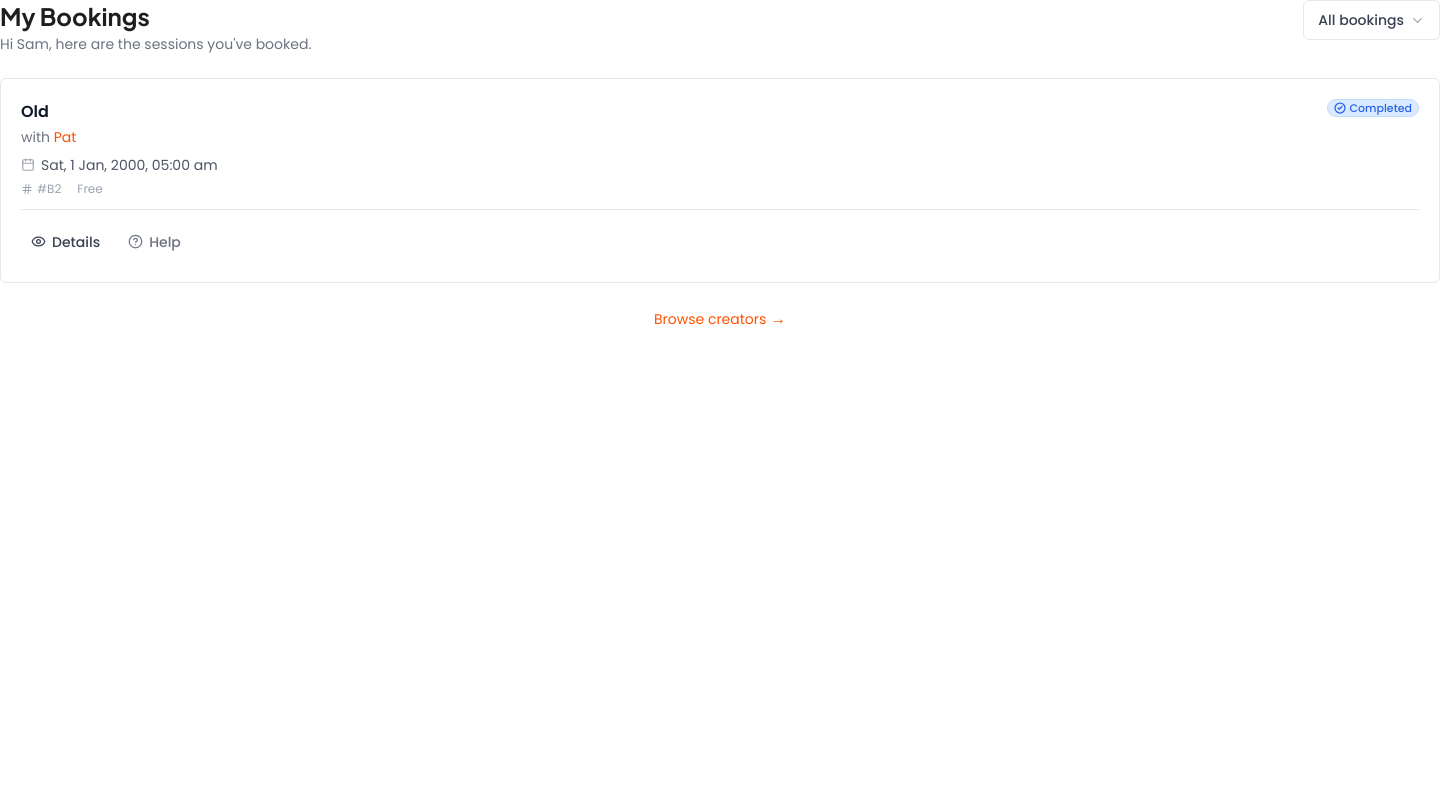
completed → Details modal shows Write a review + Rebook
The width and height of the screenshot is (1440, 810).
Expected: the text "Old" is shown, [21,100,49,123]
Click the button "Details" at (66, 242), box [21,222,110,262]
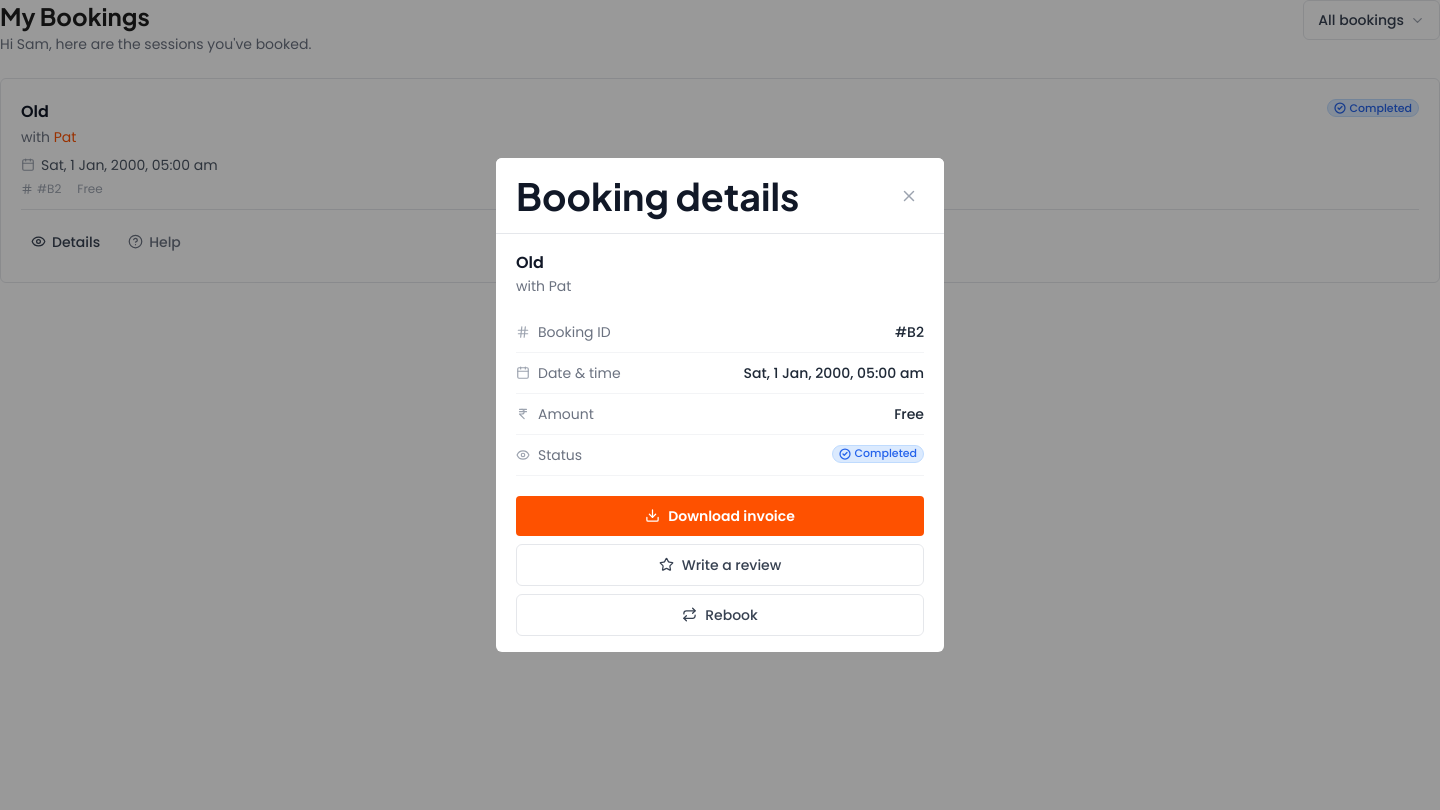
Result: the heading "Booking details" is shown at [516,174,799,217]
Result: the button "Write a review" is shown at [516,544,924,586]
Result: the link "Rebook" is shown at [516,594,924,636]
